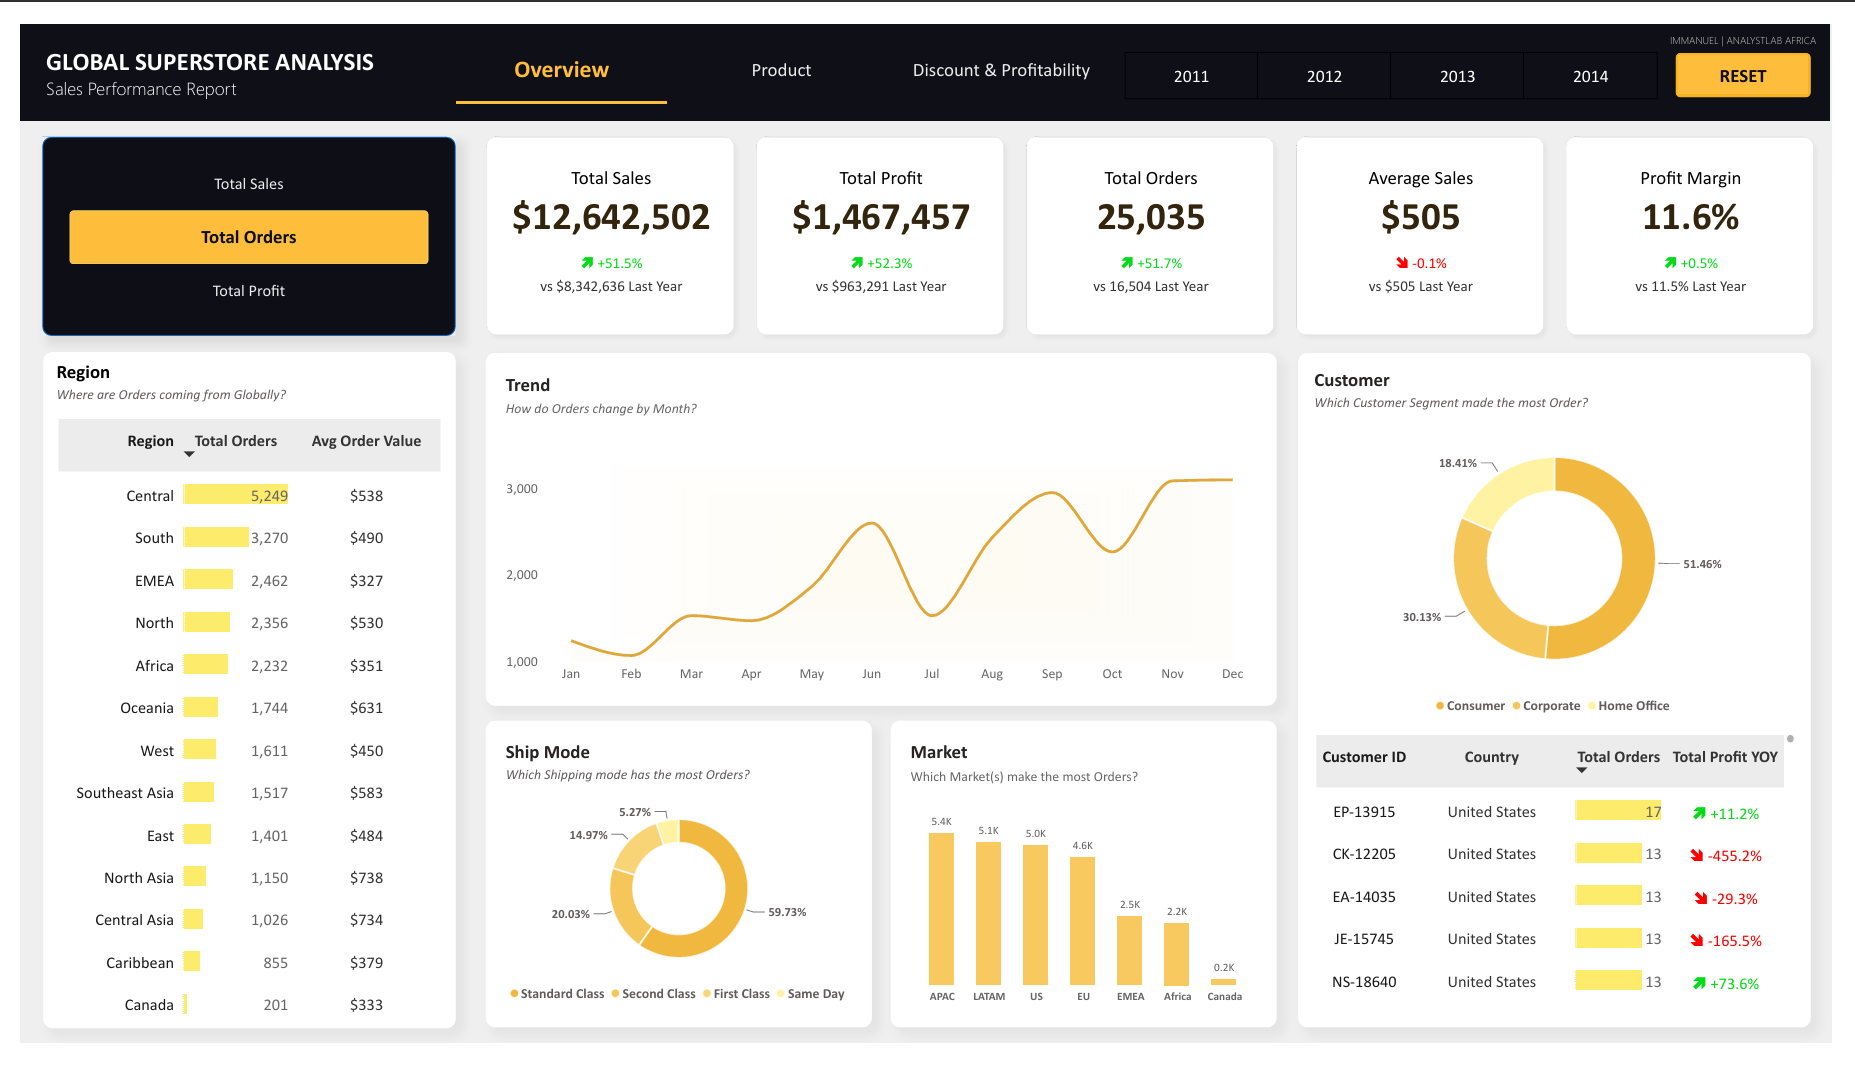

What the dashboard file says about the page in this screenshot:
{"tool":"powerbi","page":{"name":"Overview","canvas":[1920,1080],"ordinal":0},"visuals":[{"type":"cardVisual","fields":{"Data":["_Measures.Total Sales","_Measures.Total Profit","_Measures.Total Orders","_Measures.Average Sales","_Measures.Profit Margin"]},"box":[476.9,102.4,1442.3,244.3],"z":0},{"type":"shape","box":[0,0,1918.4,101.8],"z":1000},{"type":"advancedSlicerVisual","fields":{"Values":["Calender.Year"]},"box":[1165.3,23.7,576.9,60.5],"z":2000},{"type":"textbox","box":[22,17.6,391.8,68.2],"z":3000},{"type":"shape","box":[23.3,118.6,437.4,211.7],"z":4000},{"type":"advancedSlicerVisual","fields":{"Values":["Dim_Parameter.Dim_Parameter"]},"box":[46.5,134.9,390.8,181.5],"z":5000},{"type":"actionButton","box":[1754.2,29.8,143,47.7],"z":6000},{"type":"stackedAreaChart","title":"Trend","fields":{"Category":["Calender.Month Name Short"],"Y":["_Measures.Total Orders"]},"box":[492.9,347.5,838.1,374.8],"z":7000},{"type":"tableEx","title":"Region","fields":{"Values":["Location Dim.Region","_Measures.Total Orders","_Measures.Average Order Value"]},"box":[24.3,347.3,437.1,716.4],"z":8000},{"type":"clusteredColumnChart","title":"Market","fields":{"Category":["Location Dim.Market"],"Y":["_Measures.Total Orders"]},"box":[922.2,738.2,408.8,324.8],"z":9000},{"type":"donutChart","title":"Ship Mode","fields":{"Category":["Order Dim.Ship Mode"],"Y":["_Measures.Total Orders"]},"box":[492.9,738.2,408.8,324.8],"z":10000},{"type":"shape","box":[1353.7,347.5,542.8,715.5],"z":11000},{"type":"donutChart","title":"Customer","fields":{"Category":["Customer Dim.Segment"],"Y":["_Measures.Total Orders"]},"box":[1369.6,363.4,511,374.8],"z":12000},{"type":"tableEx","title":"Where is Sales coming from Globally?","fields":{"Values":["Customer Dim.Customer ID","Location Dim.Country","_Measures.Total Orders","_Measures.Total Profit YOY"]},"box":[1369.6,738.2,511,308.9],"z":13000},{"type":"pageNavigator","box":[461.8,0,689.2,85.3],"z":14000},{"type":"textbox","box":[1743.3,2.2,176.1,30.8],"z":15000}]}

Visuals, with their boxes in screenshot pixels (x1, y1, x2, y2), scaled from the page's 1920x1080 canvas onto the 1855x1066 screenshot:
cardVisual - _Measures.Total Sales x _Measures.Total Profit: [x1=461, y1=101, x2=1854, y2=342]
shape: [x1=0, y1=0, x2=1853, y2=100]
advancedSlicerVisual - Calender.Year: [x1=1126, y1=23, x2=1683, y2=83]
textbox: [x1=21, y1=17, x2=400, y2=85]
shape: [x1=23, y1=117, x2=445, y2=326]
advancedSlicerVisual - Dim_Parameter.Dim_Parameter: [x1=45, y1=133, x2=422, y2=312]
actionButton: [x1=1695, y1=29, x2=1833, y2=76]
"Trend" stackedAreaChart: [x1=476, y1=343, x2=1286, y2=713]
"Region" tableEx: [x1=23, y1=343, x2=446, y2=1050]
"Market" clusteredColumnChart: [x1=891, y1=729, x2=1286, y2=1049]
"Ship Mode" donutChart: [x1=476, y1=729, x2=871, y2=1049]
shape: [x1=1308, y1=343, x2=1832, y2=1049]
"Customer" donutChart: [x1=1323, y1=359, x2=1817, y2=729]
"Where is Sales coming from Globally?" tableEx: [x1=1323, y1=729, x2=1817, y2=1034]
pageNavigator: [x1=446, y1=0, x2=1112, y2=84]
textbox: [x1=1684, y1=2, x2=1854, y2=33]
